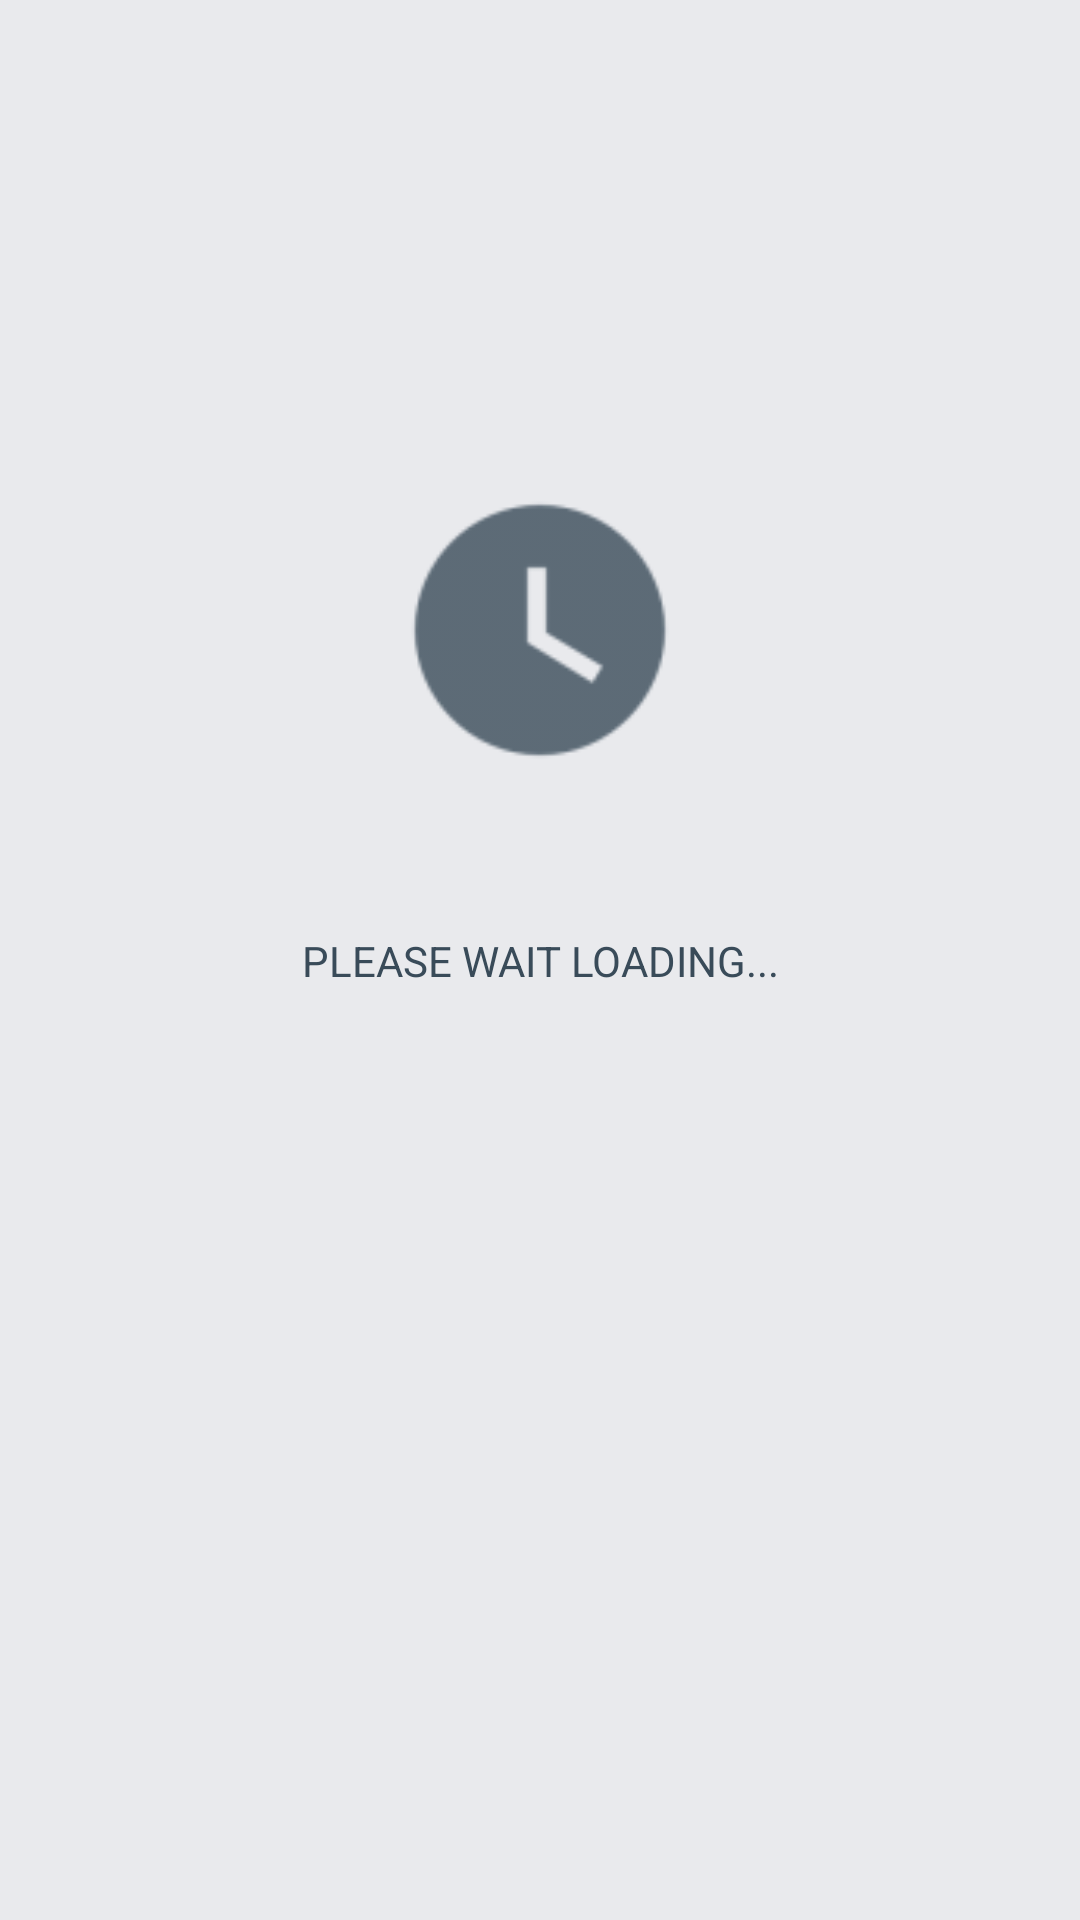

Screen size 1080*1920. Icon name, then its center in pixels as (x,y):
loading: (540,630)
